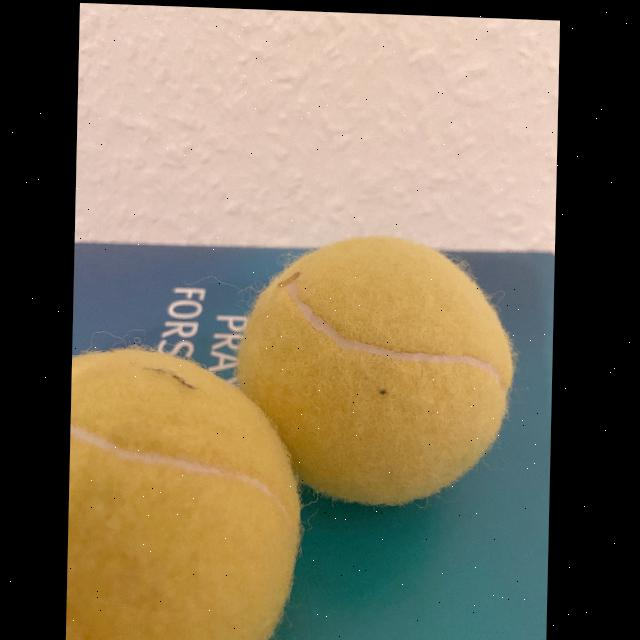Tennisball: (236, 237, 513, 505), (67, 349, 300, 640)
